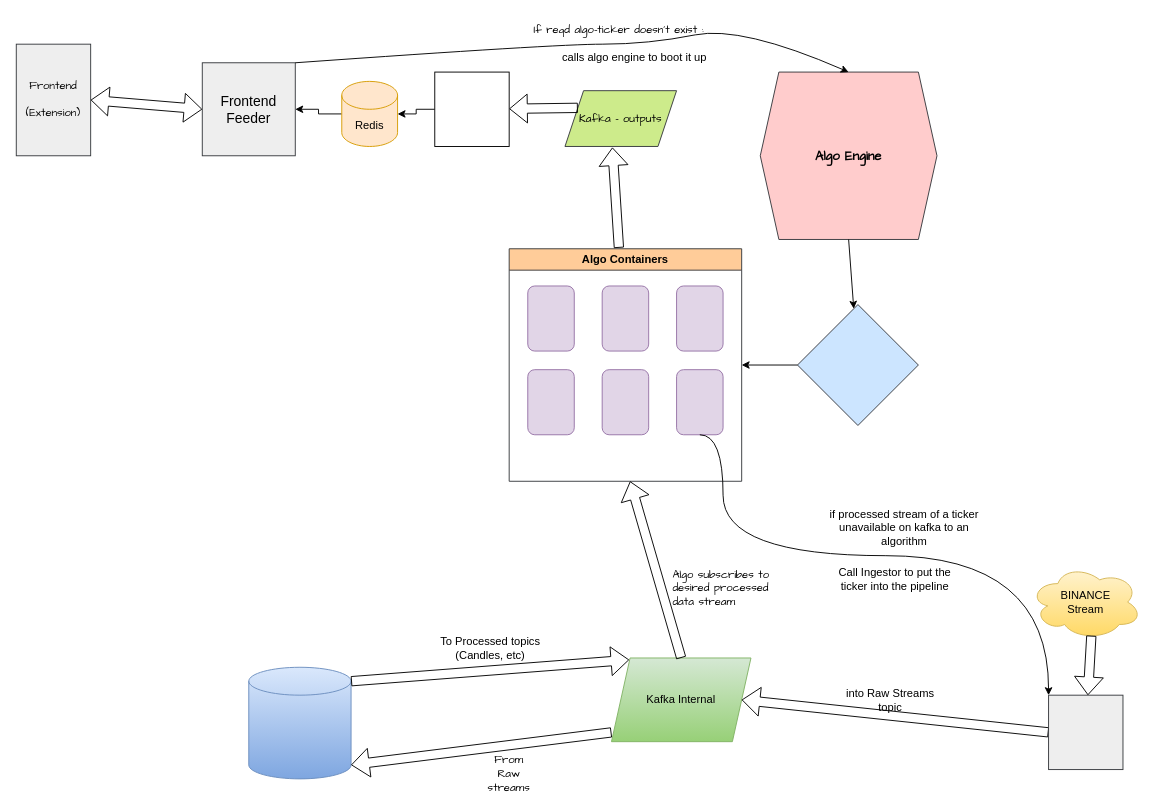
Some shapes in this 1158 by 812 pixel diagram are drawn without their labels. Each missing label, with the centre of its shape:
"Data Processor" goes at [299,722].
"Docker API" goes at [857,364].
"Ingestor" goes at [1085,732].
"KafkaToRedis Bridge" goes at [471,108].
